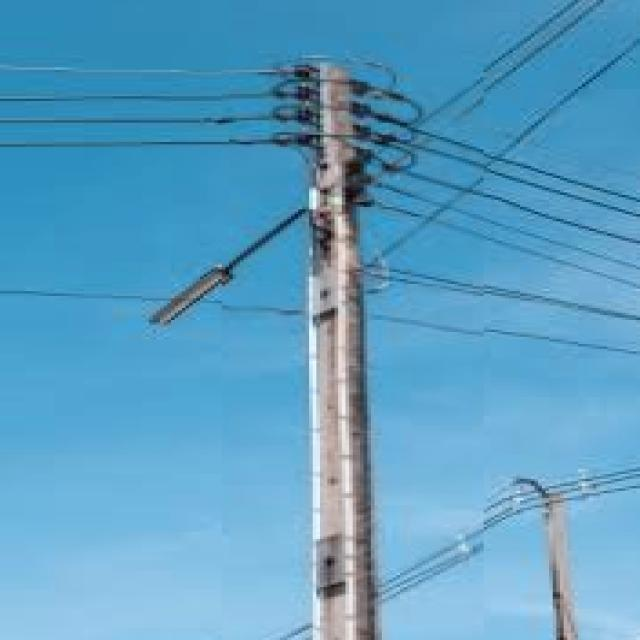light_pole: (222, 62, 480, 640)
